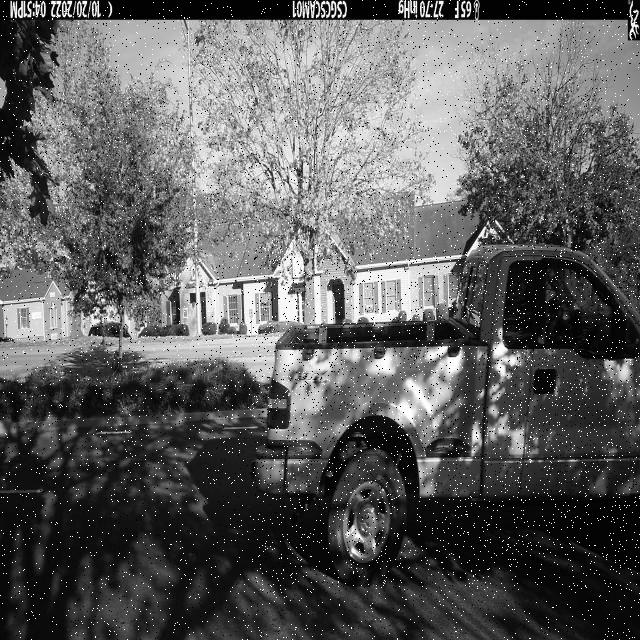Pickup: (252, 245, 640, 590)
